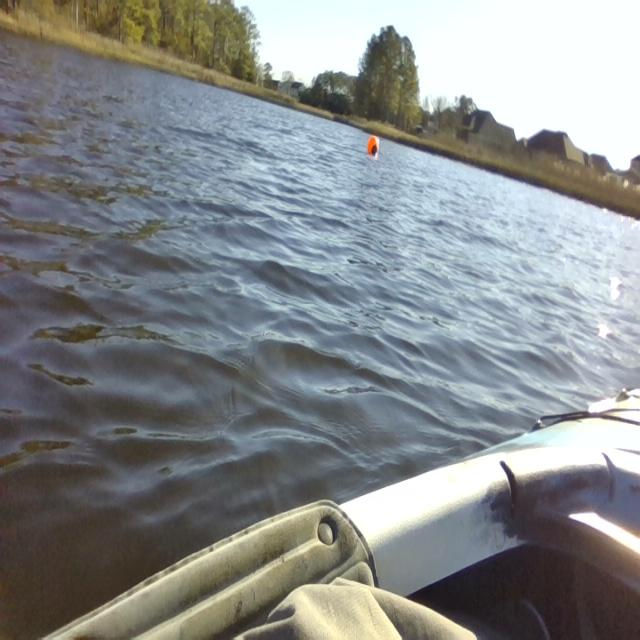Buoy: (364, 132, 386, 163)
